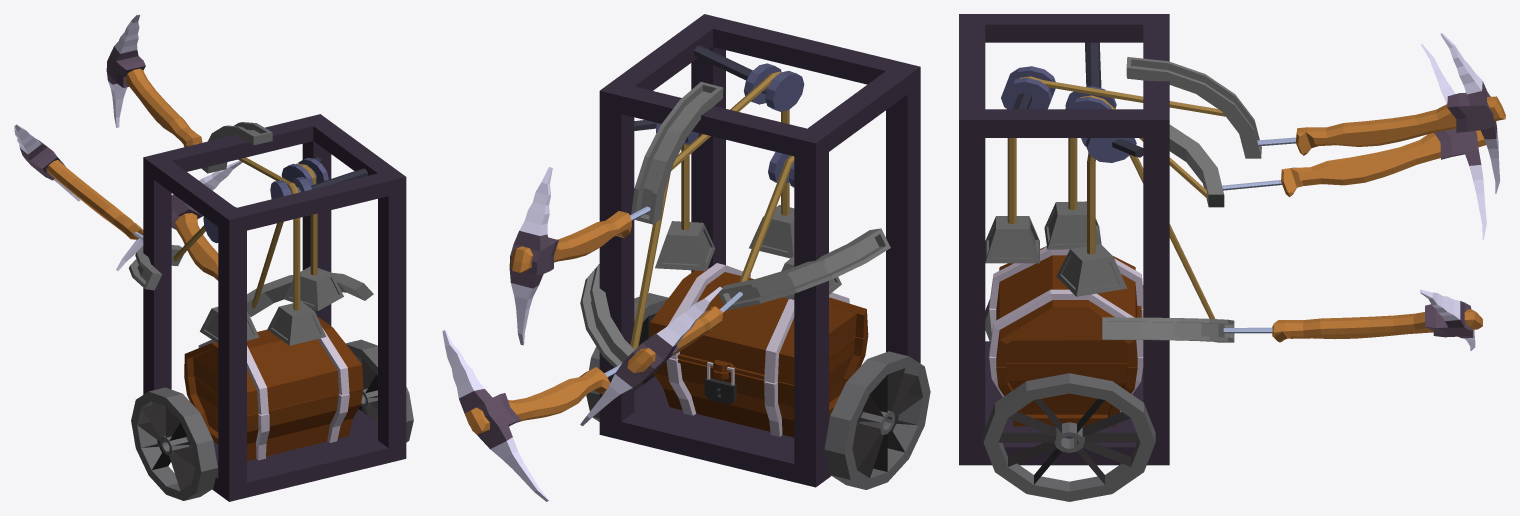
Rendered from PickaxeMachine.fbx.
The picture shows the model from 3 angles, left to right: view 1: azimuth 30°, elevation 25°; view 2: azimuth 150°, elevation 25°; view 3: azimuth 270°, elevation 25°; orthographic projection. The views are drawn at different scales.
Parts seen in each view (by area): view 1: Frame, Chest, Wheel2, Pickaxe2, Pickaxe3, Pickaxe1, Wheel1, Weight2, Rail1, Weight1, Rail2, Rail3 (+6 smaller); view 2: Frame, Chest, Wheel2, Pickaxe1, Pickaxe2, Rail2, Rail3, Pickaxe3, Rail1, Weight1, Roll2, Weight2 (+7 smaller); view 3: Frame, Chest, Wheel1, Pickaxe2, Pickaxe3, Pickaxe1, Rail2, Rail1, Weight1, Weight2, Weight3, Rail3 (+9 smaller).
Part boxes in pixels (x1,y1,x2,y2): Frame: (143,114,406,501); Chest: (184,317,363,460); Wheel2: (131,387,217,500); Pickaxe2: (106,14,202,146); Pickaxe3: (14,124,143,239); Pickaxe1: (116,160,242,280); Wheel1: (346,339,413,442); Weight2: (267,301,326,345); Rail1: (247,272,373,316); Weight1: (284,266,343,310); Rail2: (201,122,272,173); Rail3: (129,245,183,290); Frame: (599,14,920,487); Chest: (649,263,868,437); Wheel2: (824,351,930,489); Pickaxe1: (442,330,610,501); Pickaxe2: (509,167,631,345); Rail2: (631,81,723,224); Rail3: (718,228,890,310); Pickaxe3: (580,287,723,426); Rail1: (580,264,634,367); Weight1: (655,221,715,270); Roll2: (744,63,804,111); Weight2: (749,205,794,258); Frame: (959,14,1169,465); Chest: (989,246,1143,426); Wheel1: (983,373,1155,501); Pickaxe2: (1295,33,1505,193); Pickaxe3: (1281,44,1486,239); Pickaxe1: (1272,289,1482,350); Rail2: (1126,57,1261,158); Rail1: (1102,317,1234,342); Weight1: (1056,244,1127,296); Weight2: (985,216,1039,263); Weight3: (1044,201,1101,249); Rail3: (1169,124,1224,207).
Bounding box in the file's own units: 105 × 174 × 146.
